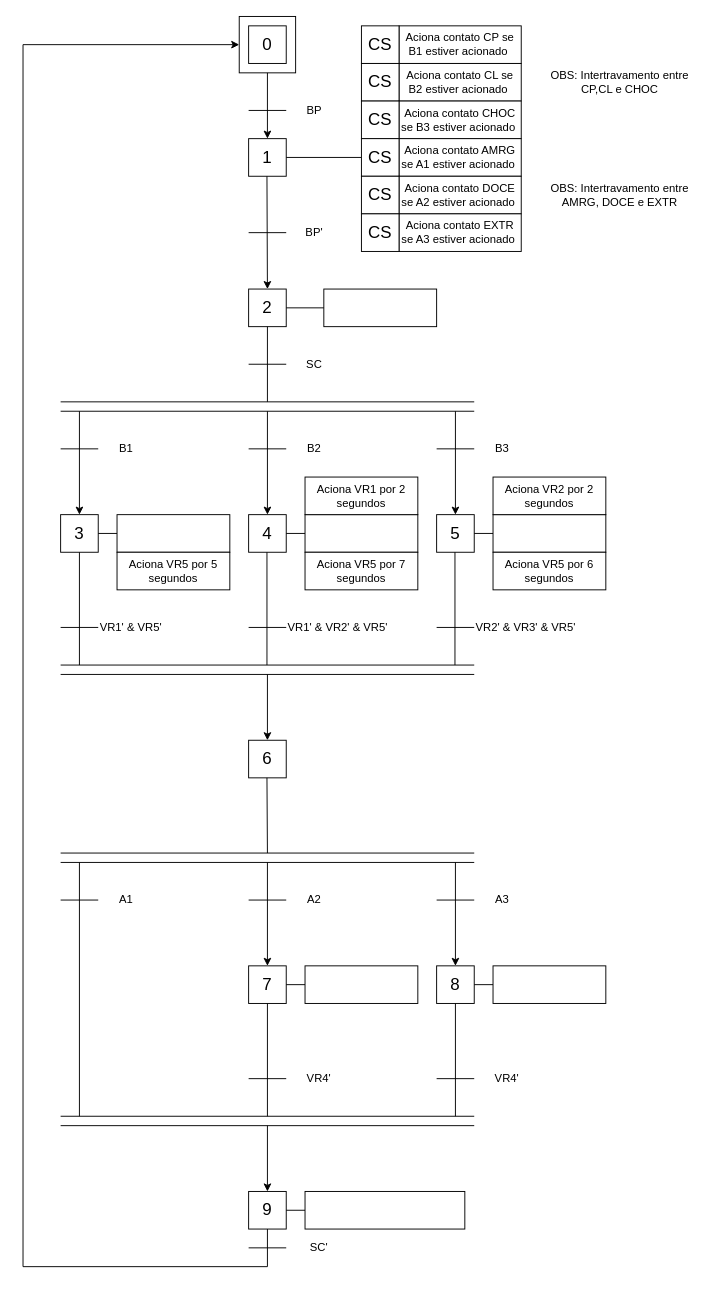
Some shapes in this 716 by 1291 pixel diagram are drawn without their labels. The shapes that lost their labels are listed below. From the top down, each one's centre as x and y in pixels, then its label:
At point 380,307: "Aciona AC".
At point 173,533: "Aciona VR1 por 3 segundos".
At point 361,533: "Aciona VR2 por 3 segundos".
At point 549,533: "Aciona VR3 por 3 segundos".
At point 361,984: "Aciona VR4 por 4 segundos".
At point 549,984: "Aciona VR4 por 6 segundos".
At point 384,1210: "Desliga CP, CL, CHOC, AMRG, DOCE e EXTR.".
